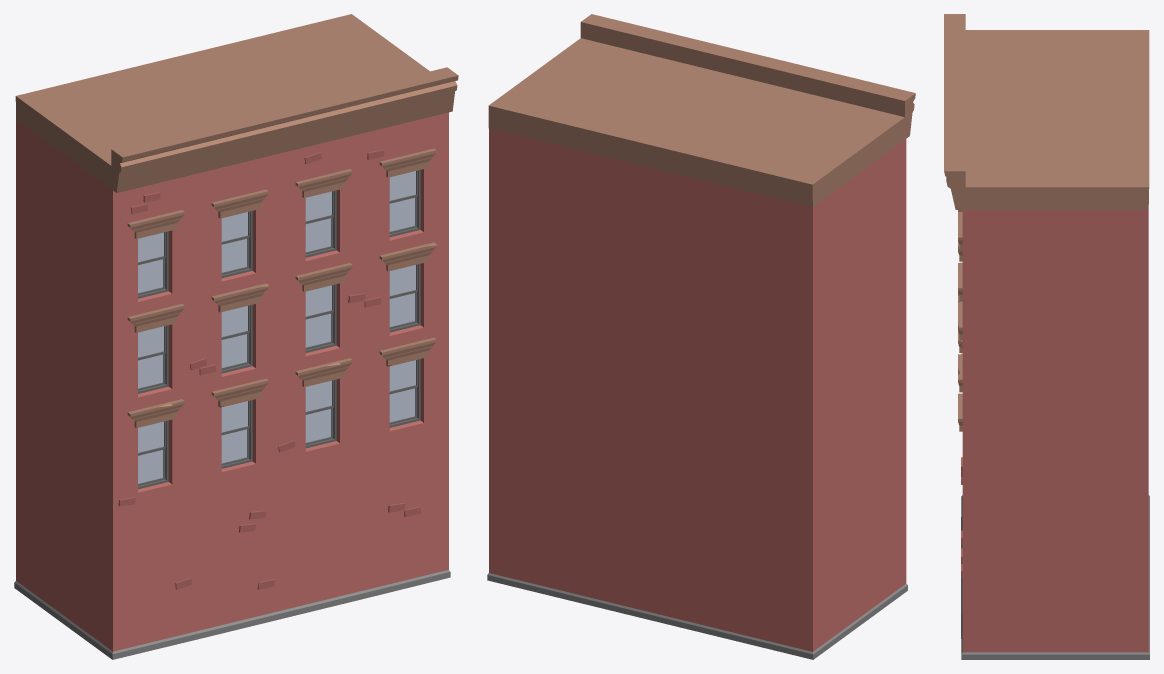
Rendered from RB Blank.glb.
3 views of the same model, side by side, from view 1: azimuth 30°, elevation 25°; view 2: azimuth 150°, elevation 25°; view 3: azimuth 270°, elevation 25° (orthographic). The views are drawn at different scales.
Visible parts, largest first — view 1: RBBlank; view 2: RBBlank; view 3: RBBlank.
Boxes of the visible parts, left/top/right/bottom form: RBBlank: left=14, top=14, right=458, bottom=659; RBBlank: left=487, top=14, right=915, bottom=659; RBBlank: left=944, top=14, right=1149, bottom=659.
Size of the model in its own units: 2.42 by 3.48 by 1.33.
